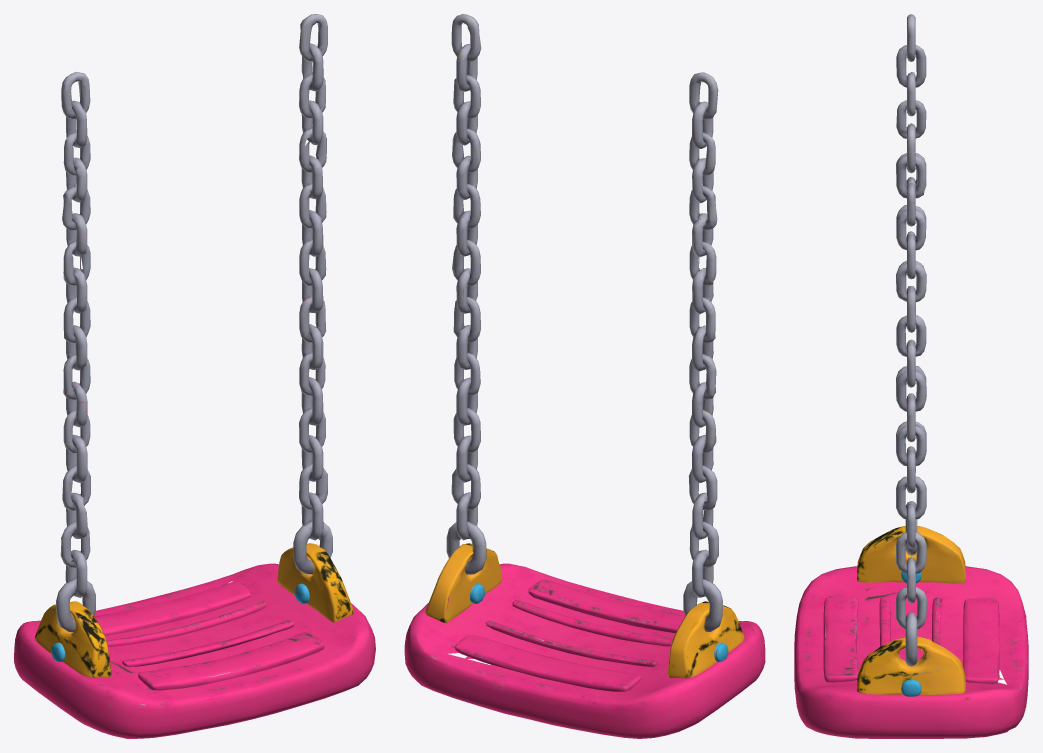
File: swing_seat.glb
3 renders of one model, left to right at view 1: azimuth 30°, elevation 25°; view 2: azimuth 150°, elevation 25°; view 3: azimuth 270°, elevation 25°, orthographic. The views are drawn at different scales.
Size of what is drawn, in the model's own units: 0.4864 by 1 by 0.3446.
1 material, 1 textured.
